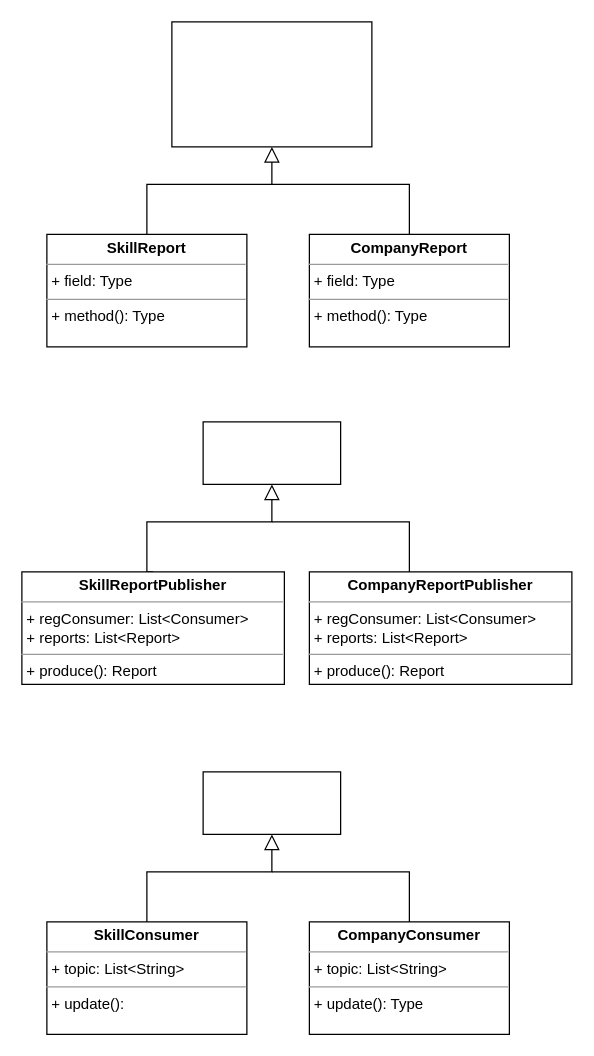
This 594x1056 diagram has some shape labels left out. The shapes that lost their labels are listed below. From the top down, each one's centre as x and y in pixels, then its label:
At point (271, 84): "<<abstract>> Report + field: Type + method(): Type".
At point (271, 452): "«interface» Publisher".
At point (271, 802): "«interface» Consumer".
